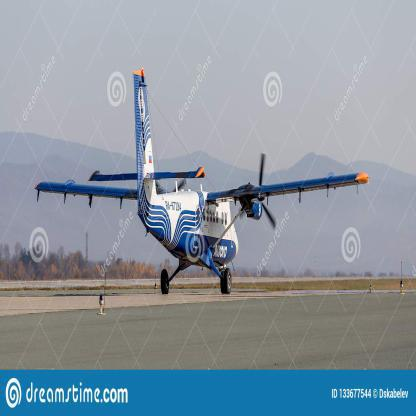CIV_Plane: (30, 66, 372, 317)
